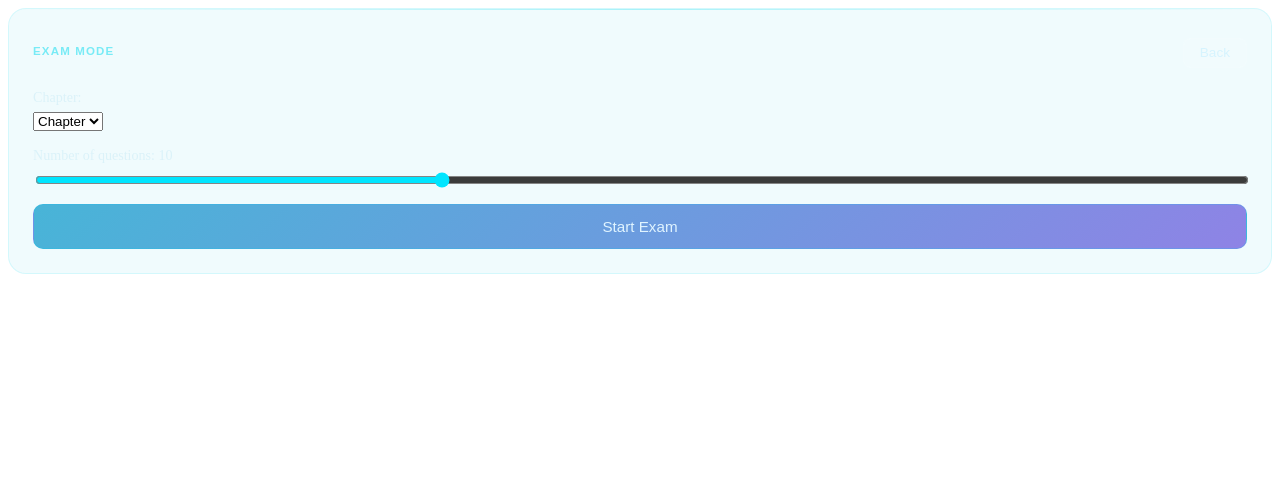
Test: server-graded exam › keeps the question available for retry when answer submission fails
This screenshot has width=1280, height=497.
Click the button "Start Exam" at coordinates (640, 227), box [33, 204, 1247, 249]
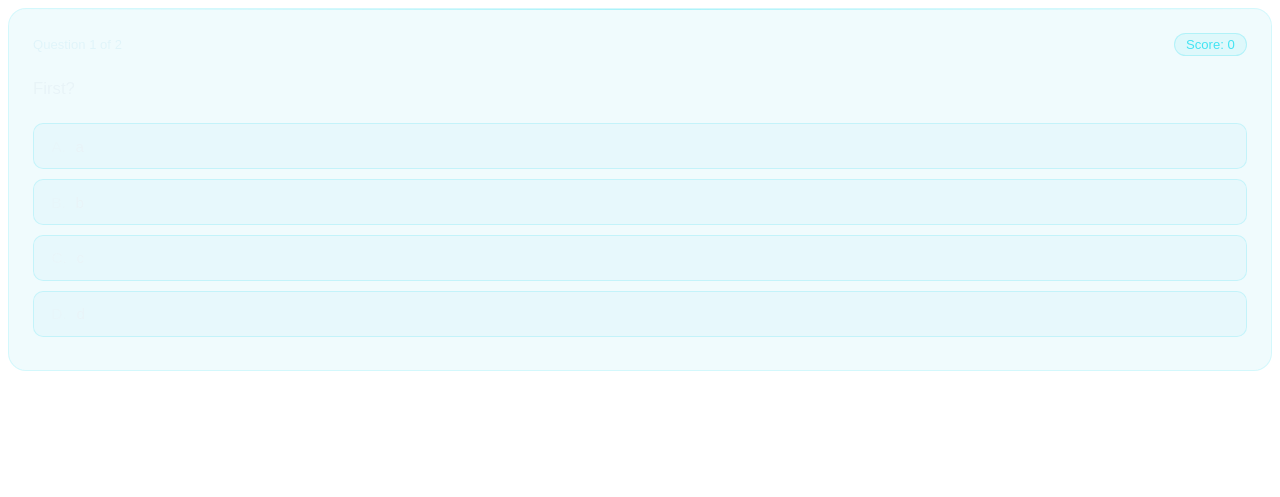
Click the button "A.a" at coordinates (57, 146), box [33, 123, 1247, 170]
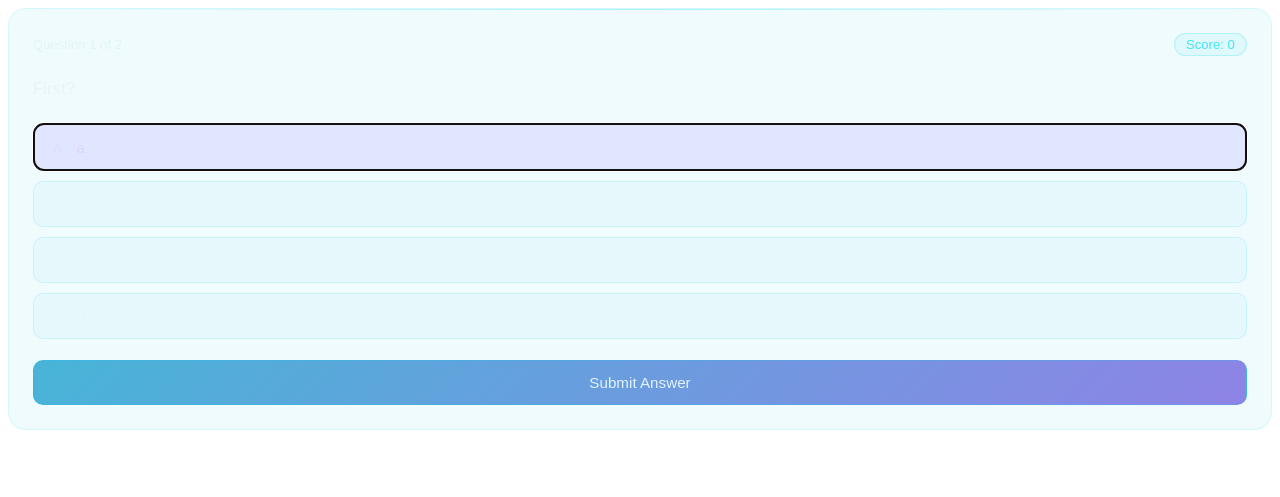
Click the button "Submit Answer" at coordinates (640, 383), box [33, 360, 1247, 405]
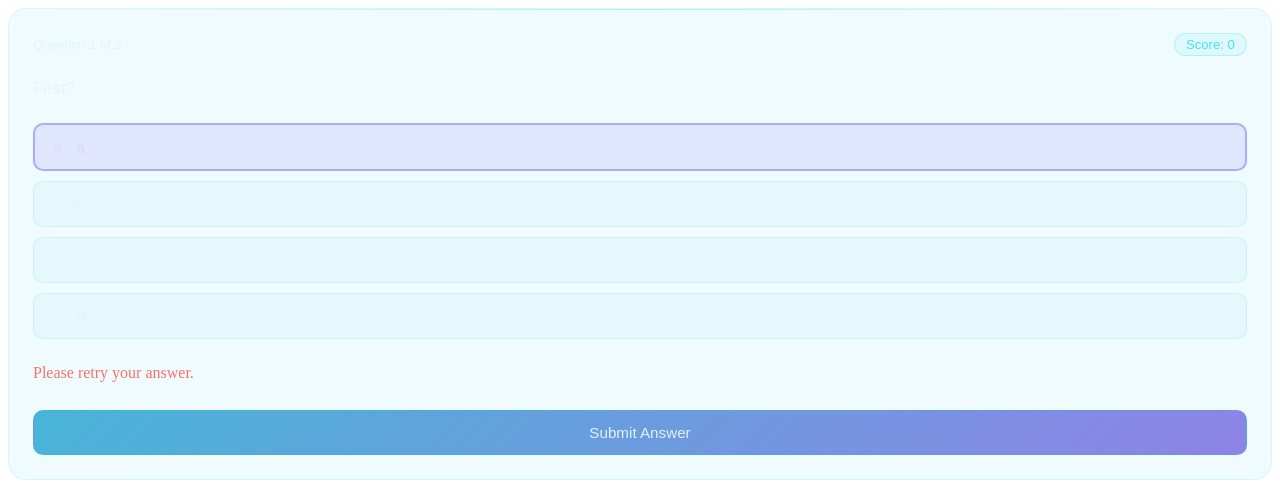
Expected: the button "Next Question" is not shown
Result: the message reads "Please retry your answer." at [33, 364, 194, 381]
Click the button "Submit Answer" at coordinates (640, 433), box [33, 410, 1247, 455]
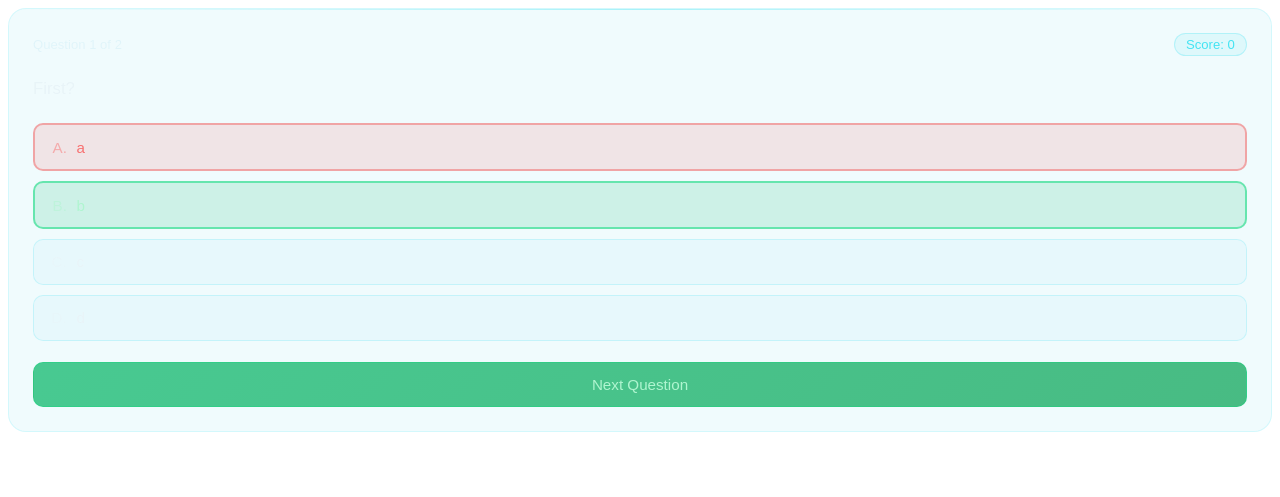
Result: the button "Next Question" is shown at [33, 362, 1247, 407]
